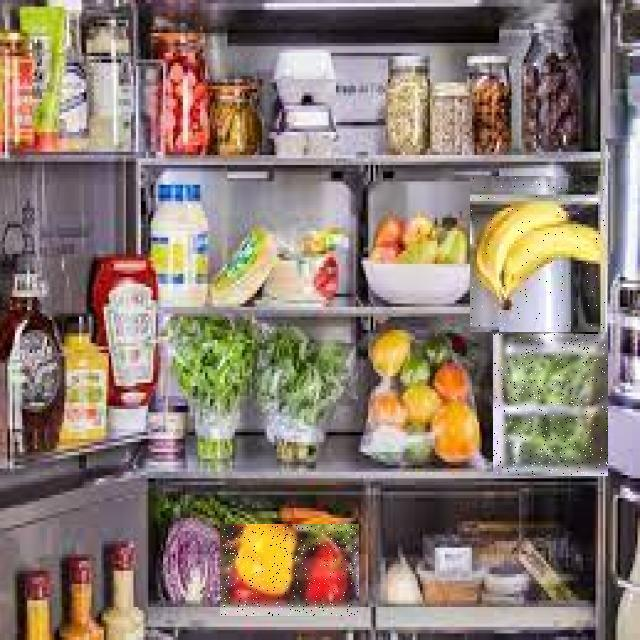Banana: (470, 176, 607, 332)
Bell Peppers: (220, 524, 359, 616)
Spinach: (493, 334, 608, 476)
